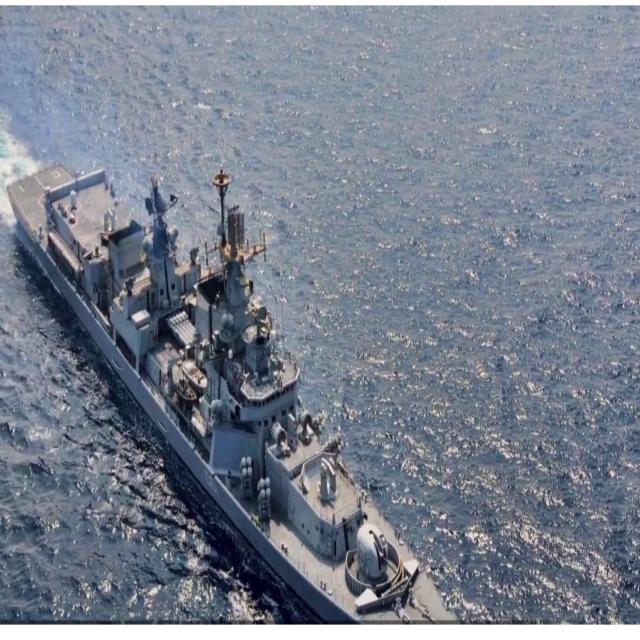OCR: (197, 459, 222, 500)
